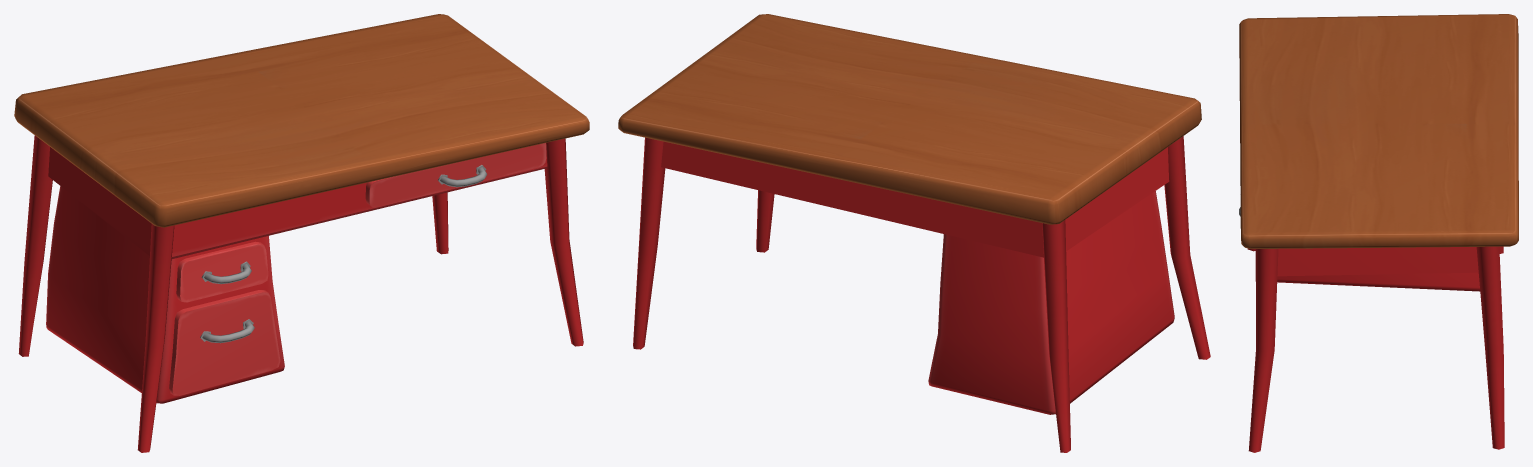
File: Desk.FBX
The picture shows the model from 3 angles, left to right: view 1: azimuth 30°, elevation 25°; view 2: azimuth 150°, elevation 25°; view 3: azimuth 270°, elevation 25°; orthographic projection. The views are drawn at different scales.
Parts seen in each view (by area): view 1: Desk; view 2: Desk; view 3: Desk.
Boxes of the visible parts, left/top/right/bottom form: Desk: left=14, top=14, right=589, bottom=452; Desk: left=618, top=14, right=1210, bottom=452; Desk: left=1239, top=14, right=1518, bottom=452.
Size of the model in its own units: 163 by 88.04 by 92.77.
